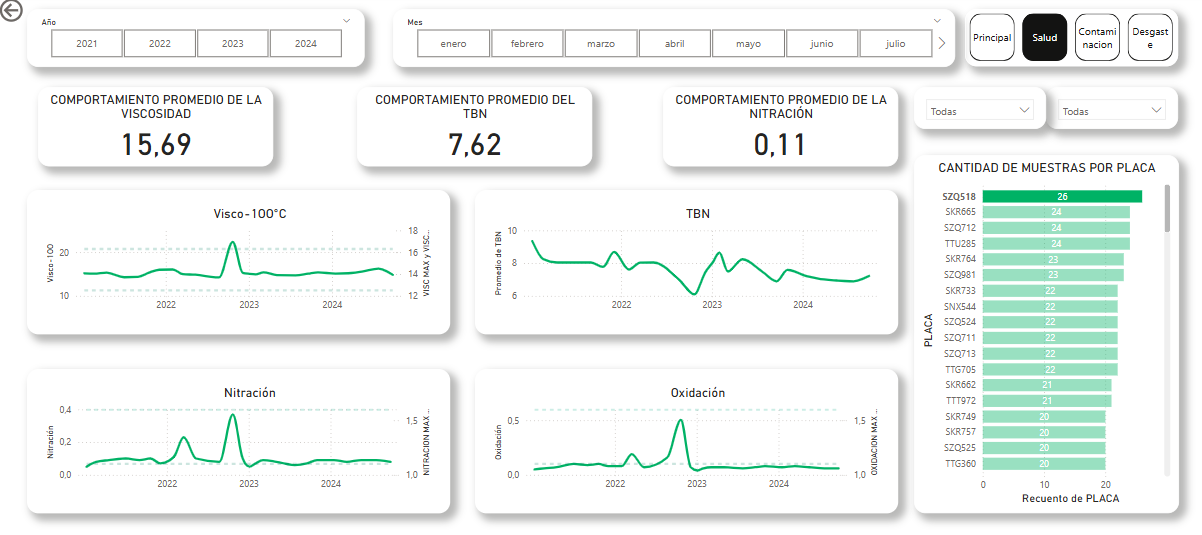

This screenshot's page, from the dashboard's own definition file:
{"tool":"powerbi","page":{"name":"Salud","canvas":[1580,720],"ordinal":1},"visuals":[{"type":"slicer","fields":{"Values":["Historial.FECHA DE TOMA .Variación.Jerarquía de fechas.Año"]},"box":[40.3,18.5,441.8,75.6],"z":0},{"type":"slicer","fields":{"Values":["Historial.FECHA DE TOMA .Variación.Jerarquía de fechas.Mes"]},"box":[519.1,18.5,735.7,75.6],"z":1000},{"type":"pageNavigator","box":[1269.1,18.7,278.6,74.8],"z":2000},{"type":"barChart","title":"CANTIDAD DE MUESTRAS POR PLACA","fields":{"Category":["Historial.PLACA "],"Y":["CountNonNull(Historial.PLACA )"]},"box":[1201.1,209,346.6,468.9],"z":3000},{"type":"lineChart","title":"Visco-1OO°C","fields":{"Y":["Avg(Historial.Visco-1OO)"],"Category":["Historial.FECHA DE TOMA "],"Y2":["Avg(LIMITES.VISC_MAX)","Avg(LIMITES.VISC_MIN)"]},"box":[40.8,254.8,553.8,188.6],"z":4000},{"type":"lineChart","title":"TBN","fields":{"Y":["Avg(Historial.TBN)"],"Category":["Historial.FECHA DE TOMA "]},"box":[626.9,254.8,553.8,188.6],"z":5000},{"type":"lineChart","title":"Nitración","fields":{"Y":["Avg(Historial.Nitración)"],"Category":["Historial.FECHA DE TOMA "],"Y2":["Avg(LIMITES.NITRACION_MAX)","Avg(LIMITES.NITRACION_MIN)"]},"box":[40.8,489.3,553.8,188.6],"z":6000},{"type":"lineChart","title":"Oxidación","fields":{"Y":["Avg(Historial.Oxidación)"],"Category":["Historial.FECHA DE TOMA "],"Y2":["Avg(LIMITES.OXIDACION_MAX)","Avg(LIMITES.OXIDACION_MIN)"]},"box":[626.9,489.3,553.8,188.6],"z":7000},{"type":"slicer","fields":{"Values":["Historial.PLACA "]},"box":[1375,120,173.3,55],"z":8000},{"type":"card","title":"COMPORTAMIENTO PROMEDIO DE LA VISCOSIDAD","fields":{"Values":["Avg(Historial.Visco-1OO)"]},"box":[54.4,120.6,307.5,103.6],"z":9000},{"type":"card","title":"COMPORTAMIENTO PROMEDIO DEL TBN","fields":{"Values":["Avg(Historial.TBN)"]},"box":[472.3,120.6,307.5,103.6],"z":10000},{"type":"card","title":"COMPORTAMIENTO PROMEDIO DE LA NITRACIÓN","fields":{"Values":["Avg(Historial.Nitración)"]},"box":[873.2,120.6,307.5,103.6],"z":11000},{"type":"actionButton","box":[0,0,100,40],"z":12000},{"type":"slicer","fields":{"Values":["Historial.ESTADO "]},"box":[1201.7,120,173.3,55],"z":12001}]}

Visuals, with their boxes in screenshot pixels (x1, y1, x2, y2), scaled from the page's 1580x720 canvas onto the 1202x535 screenshot:
slicer - Historial.FECHA DE TOMA .Variación.Jerarquía de fechas.Año: [x1=31, y1=14, x2=367, y2=70]
slicer - Historial.FECHA DE TOMA .Variación.Jerarquía de fechas.Mes: [x1=395, y1=14, x2=955, y2=70]
pageNavigator: [x1=965, y1=14, x2=1177, y2=69]
"CANTIDAD DE MUESTRAS POR PLACA" barChart: [x1=914, y1=155, x2=1177, y2=504]
"Visco-1OO°C" lineChart: [x1=31, y1=189, x2=452, y2=329]
"TBN" lineChart: [x1=477, y1=189, x2=898, y2=329]
"Nitración" lineChart: [x1=31, y1=364, x2=452, y2=504]
"Oxidación" lineChart: [x1=477, y1=364, x2=898, y2=504]
slicer - Historial.PLACA : [x1=1046, y1=89, x2=1178, y2=130]
"COMPORTAMIENTO PROMEDIO DE LA VISCOSIDAD" card: [x1=41, y1=90, x2=275, y2=167]
"COMPORTAMIENTO PROMEDIO DEL TBN" card: [x1=359, y1=90, x2=593, y2=167]
"COMPORTAMIENTO PROMEDIO DE LA NITRACIÓN" card: [x1=664, y1=90, x2=898, y2=167]
actionButton: [x1=0, y1=0, x2=76, y2=30]
slicer - Historial.ESTADO : [x1=914, y1=89, x2=1046, y2=130]
